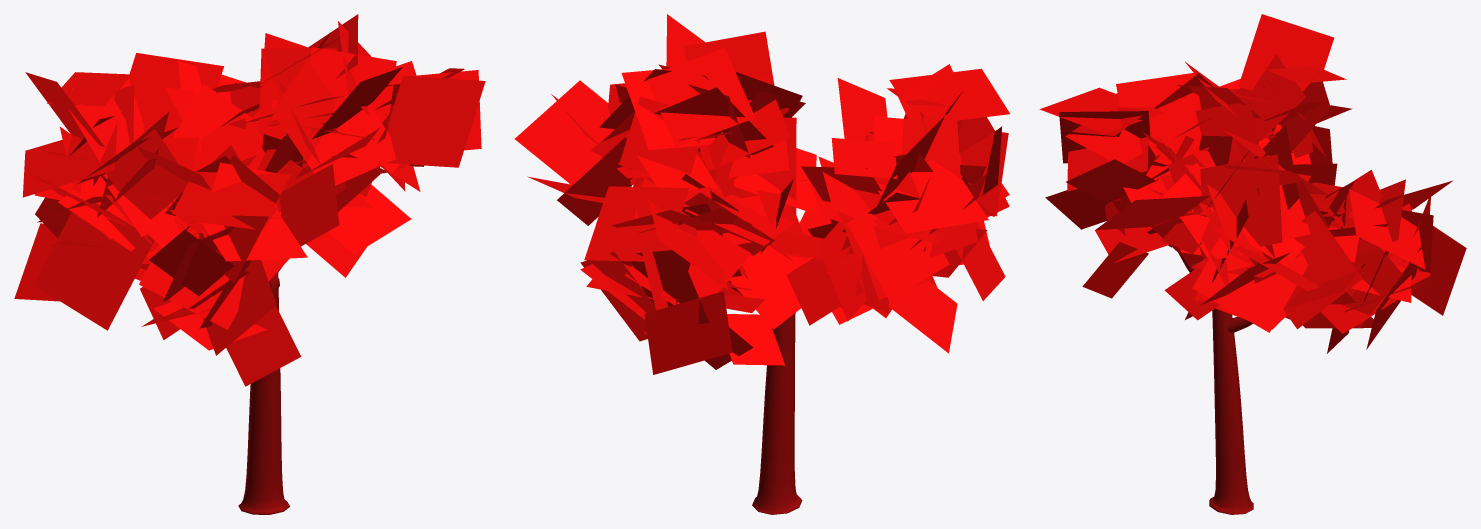
The model's file is tree_leaves_1.glb.
3 views of the same model, side by side, from view 1: azimuth 30°, elevation 25°; view 2: azimuth 150°, elevation 25°; view 3: azimuth 270°, elevation 25° (orthographic). The views are drawn at different scales.
Parts seen in each view (by area): view 1: tree_leaves_11; view 2: tree_leaves_11; view 3: tree_leaves_11.
Boxes of the visible parts, x1,y1,x2,y2 form: tree_leaves_11: (14,14,485,514); tree_leaves_11: (515,14,1009,514); tree_leaves_11: (1039,14,1466,514).
Size of the model in its own units: 7.66 by 7.36 by 6.96.
